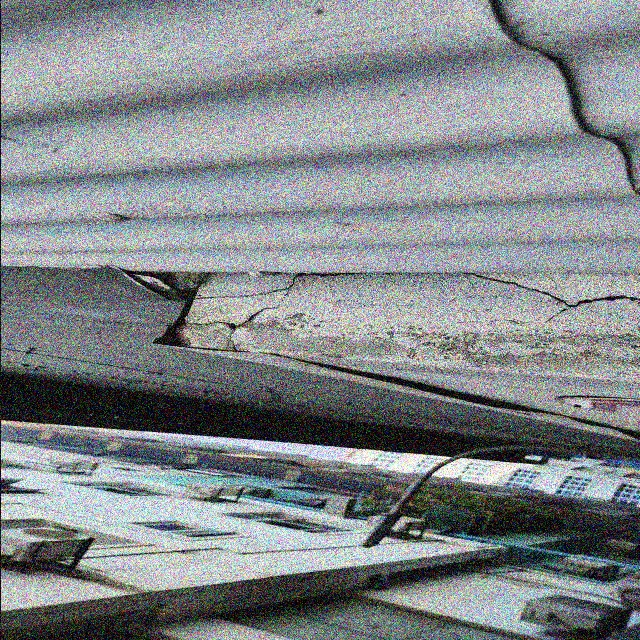SurfaceCrack: (1, 332, 639, 456), (429, 1, 639, 207)
